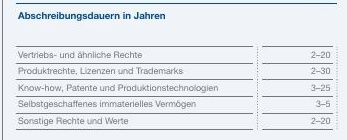table: (0, 0, 347, 140)
